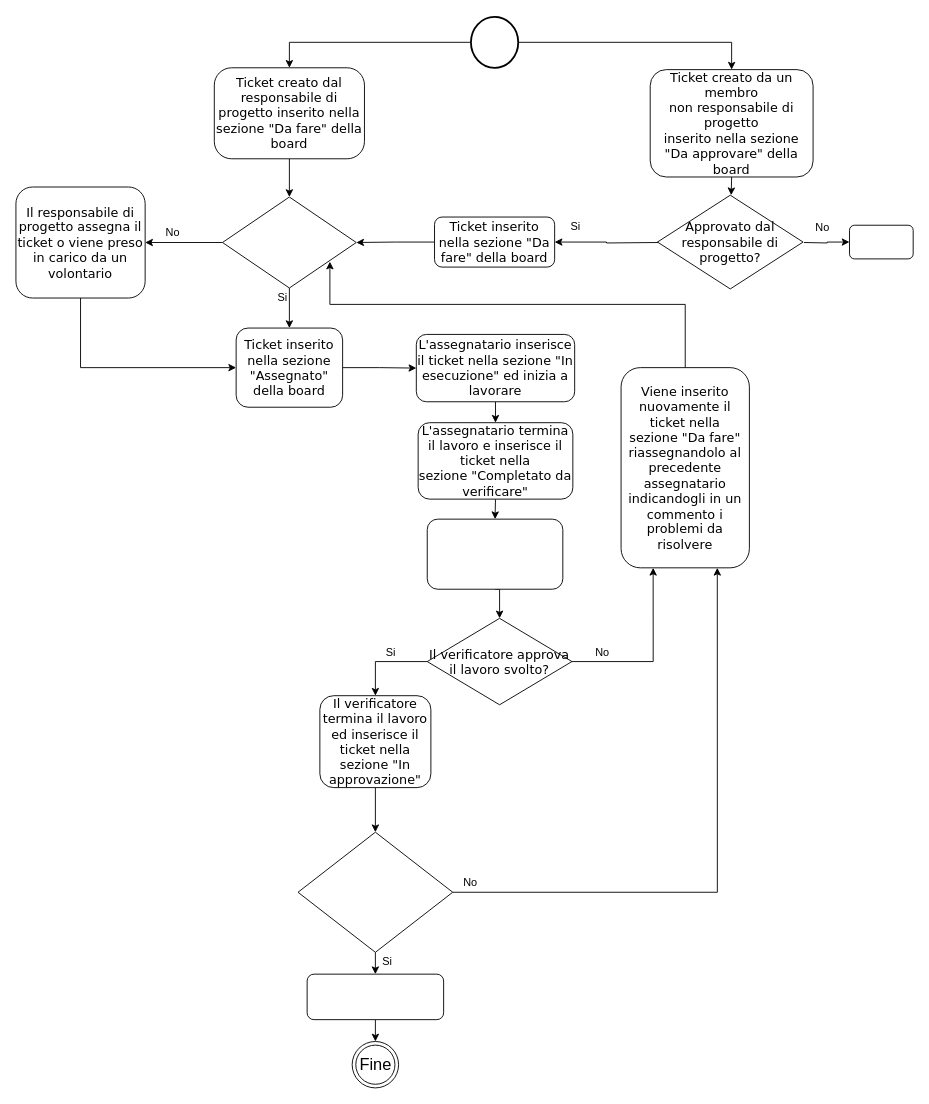
Image size: 929x1104. Some labels were removed from this diagram. The box of each missing label's shape, as (x1, y1, x2, y2) in pixels:
Il responsabile di progetto approva il lavoro svolto?: (297, 831, 453, 952)
Il ticket ha un assegnatario?: (222, 196, 356, 288)
Il ticket viene inserito nella sezione "Completati": (306, 973, 444, 1020)
Il verificatore considera il ticket e lo inserisce nella sezione "In verifica": (426, 518, 563, 589)
Inizio: (470, 15, 519, 68)
Ticket scartato: (849, 224, 913, 259)
